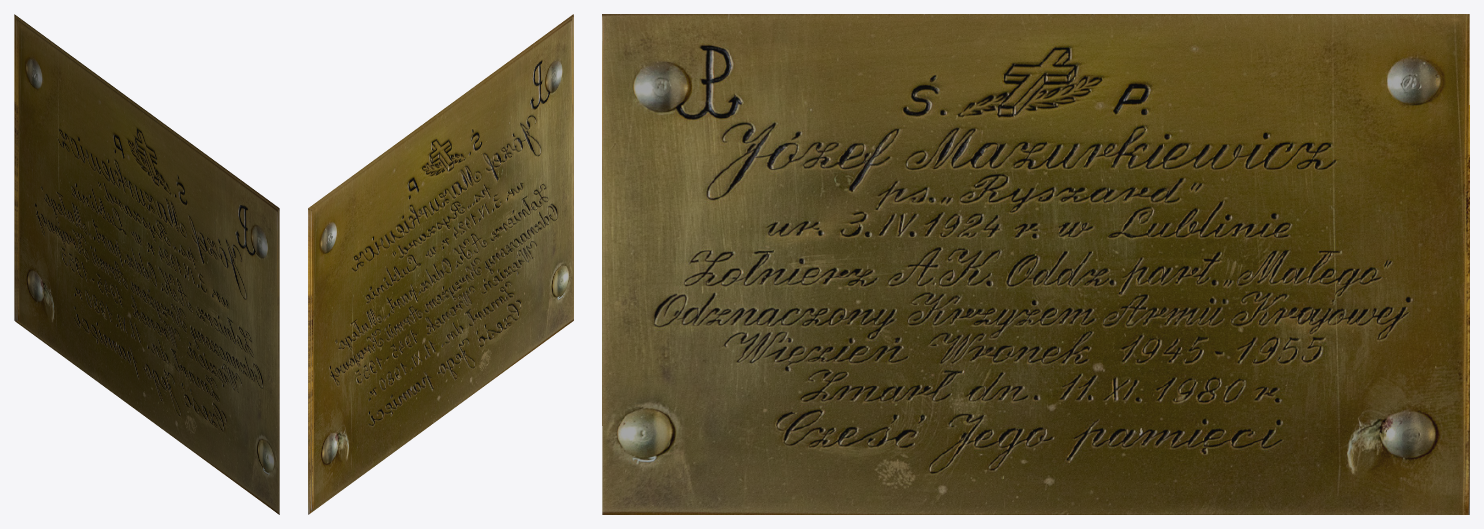
Rendered from 69. Ś.P. JÓZEF MAZURKIEWICZ.glb.
The picture shows the model from 3 angles, left to right: view 1: azimuth 30°, elevation 25°; view 2: azimuth 150°, elevation 25°; view 3: azimuth 270°, elevation 25°; orthographic projection. The views are drawn at different scales.
Parts seen in each view (by area): view 1: Plane; view 2: Plane; view 3: Plane.
Part boxes in pixels (x1,y1,x2,y2): Plane: (14,14,279,514); Plane: (308,14,573,514); Plane: (602,14,1469,514).
Bounding box in the file's own units: 0.0102 × 8.6 × 13.5.
Materials: 1 (1 with a texture image).
